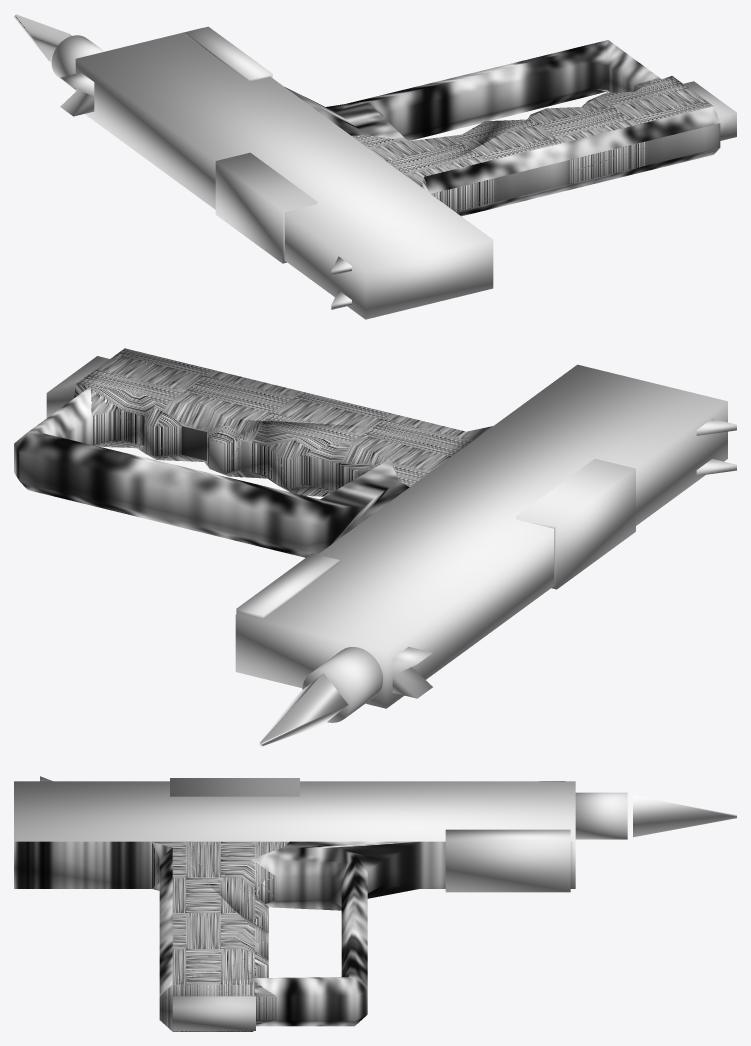
Rendered from gun_smg.fbx.
3 views of the same model, one above another, from view 1: azimuth 30°, elevation 25°; view 2: azimuth 150°, elevation 25°; view 3: azimuth 270°, elevation 25° (orthographic). The views are drawn at different scales.
Visible parts, largest first — view 1: Gun.SMG; view 2: Gun.SMG; view 3: Gun.SMG.
Part boxes in pixels (x1=…): Gun.SMG: x1=14, y1=14, x2=736, y2=319; Gun.SMG: x1=14, y1=348, x2=736, y2=747; Gun.SMG: x1=14, y1=776, x2=736, y2=1031.
Size of the model in its own units: 20.4 by 2.2 by 27.8.
